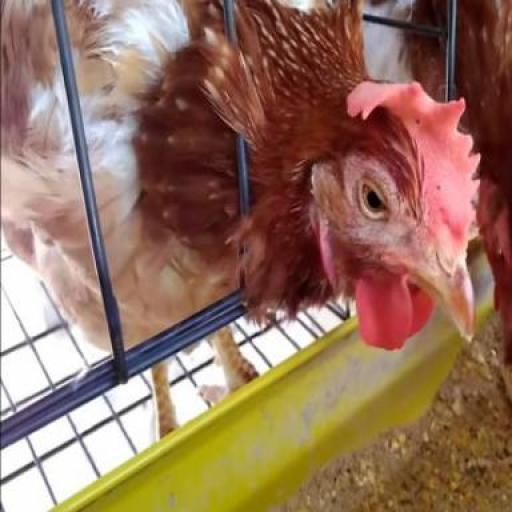disease: (399, 113, 482, 265), (332, 158, 422, 250)
